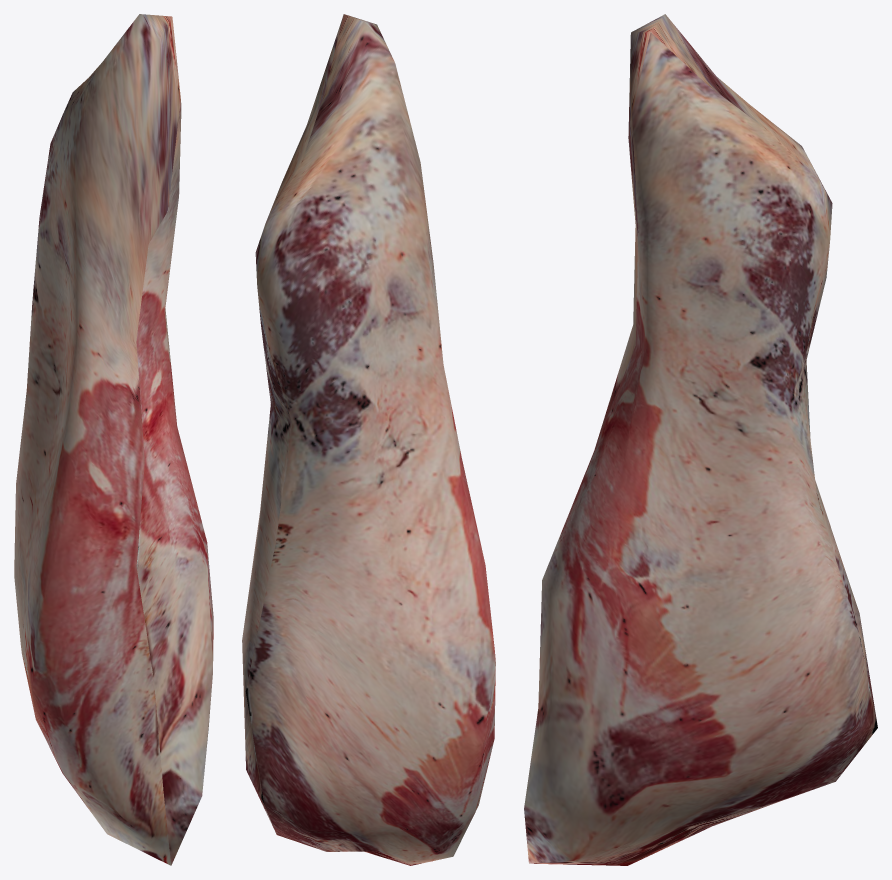
Rendered from big meat.fbx.
The picture shows the model from 3 angles, left to right: view 1: azimuth 30°, elevation 25°; view 2: azimuth 150°, elevation 25°; view 3: azimuth 270°, elevation 25°; orthographic projection. The views are drawn at different scales.
Parts seen in each view (by area): view 1: Meat Hook 3.006; view 2: Meat Hook 3.006; view 3: Meat Hook 3.006.
Part boxes in pixels (left/top/right/bottom): Meat Hook 3.006: left=14, top=14, right=213, bottom=865; Meat Hook 3.006: left=242, top=14, right=495, bottom=865; Meat Hook 3.006: left=524, top=14, right=877, bottom=865.
Bounding box in the file's own units: 75.77 × 348 × 129.
